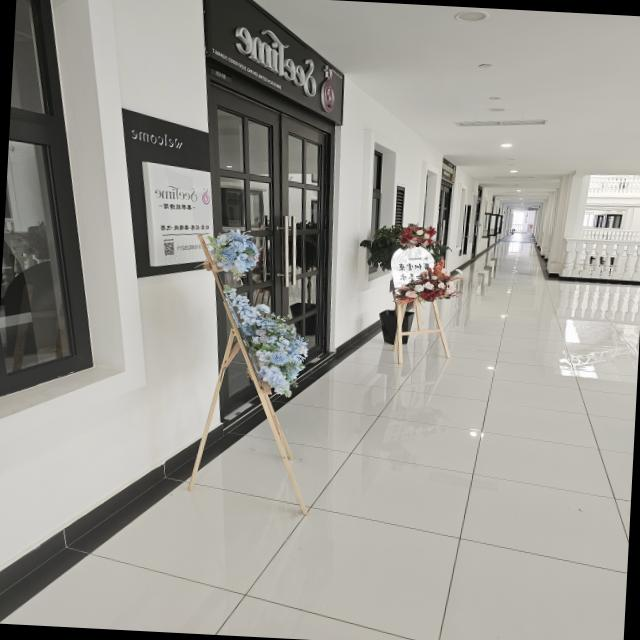footpath: (331, 340, 638, 640)
obstacle: (182, 232, 324, 515), (356, 215, 456, 364)
